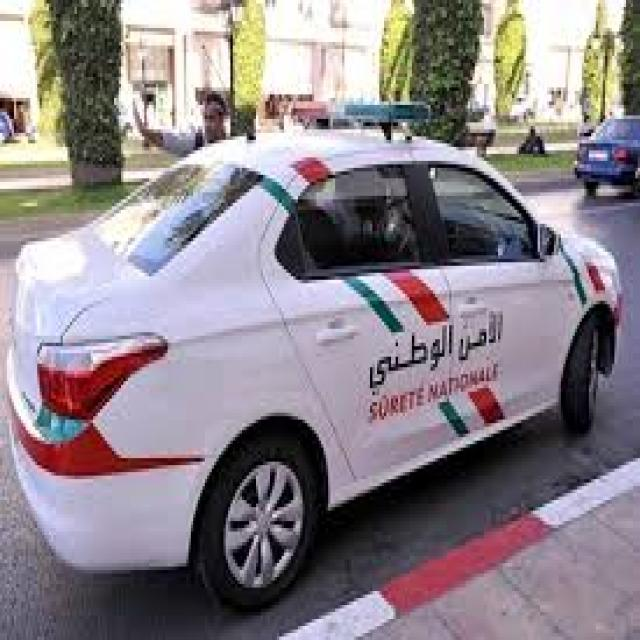police: (10, 92, 618, 606)
